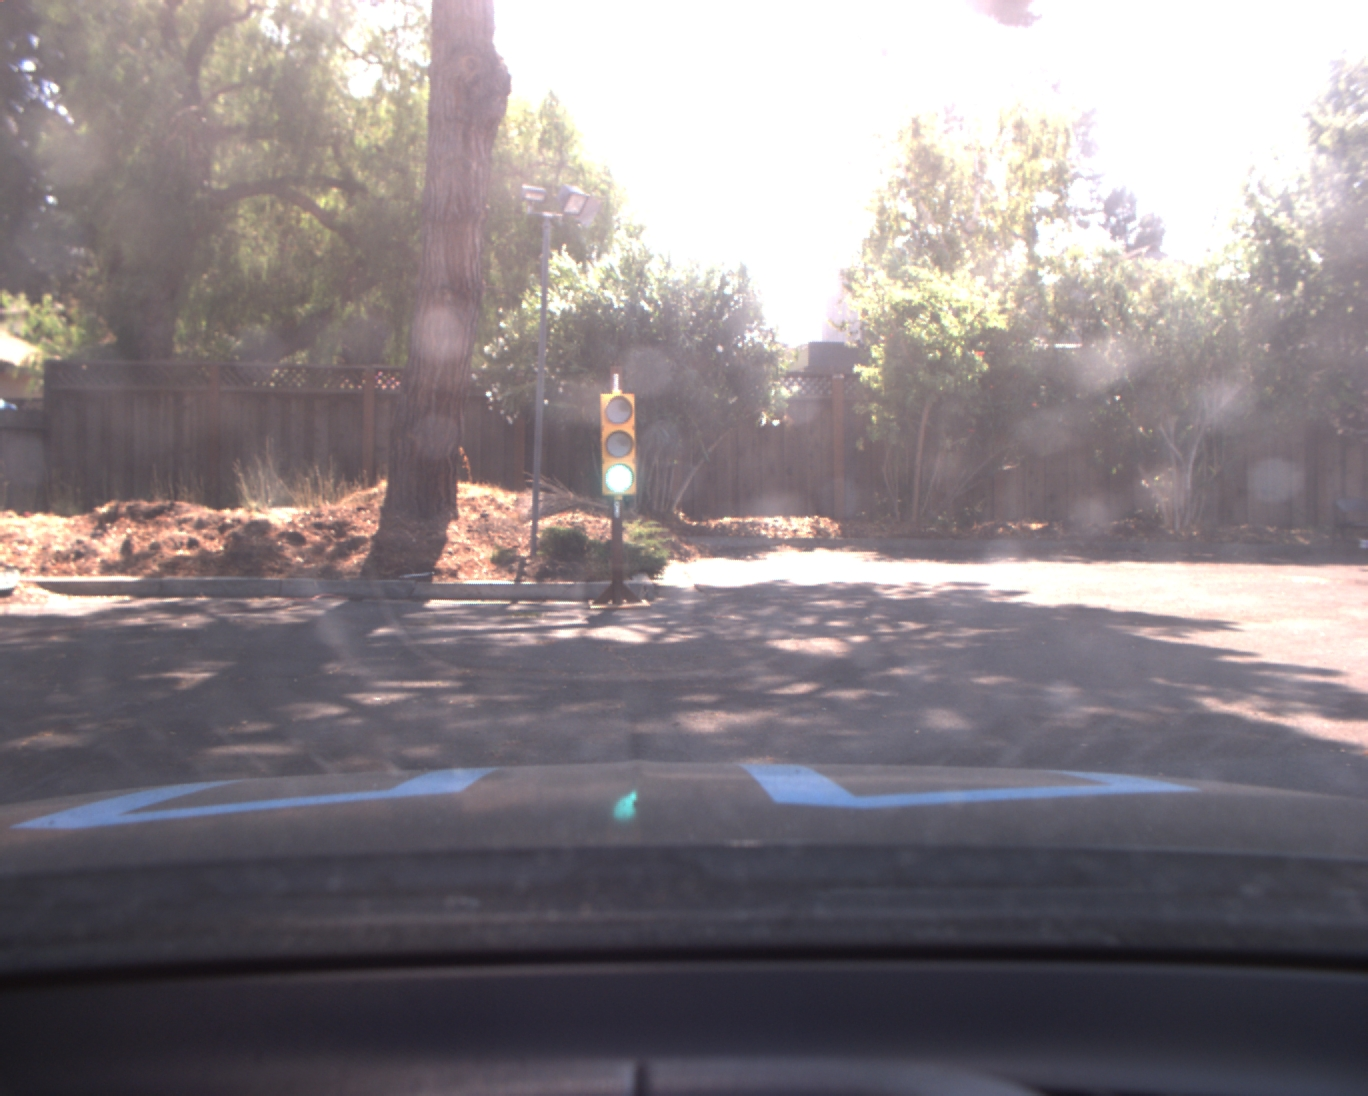green: (596, 390, 640, 495)
